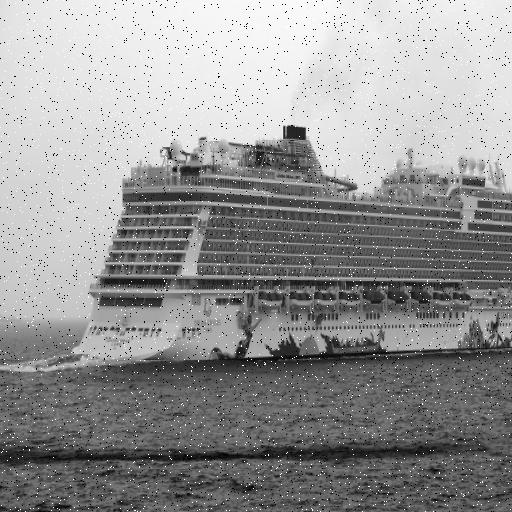cruises: (72, 95, 512, 365)
